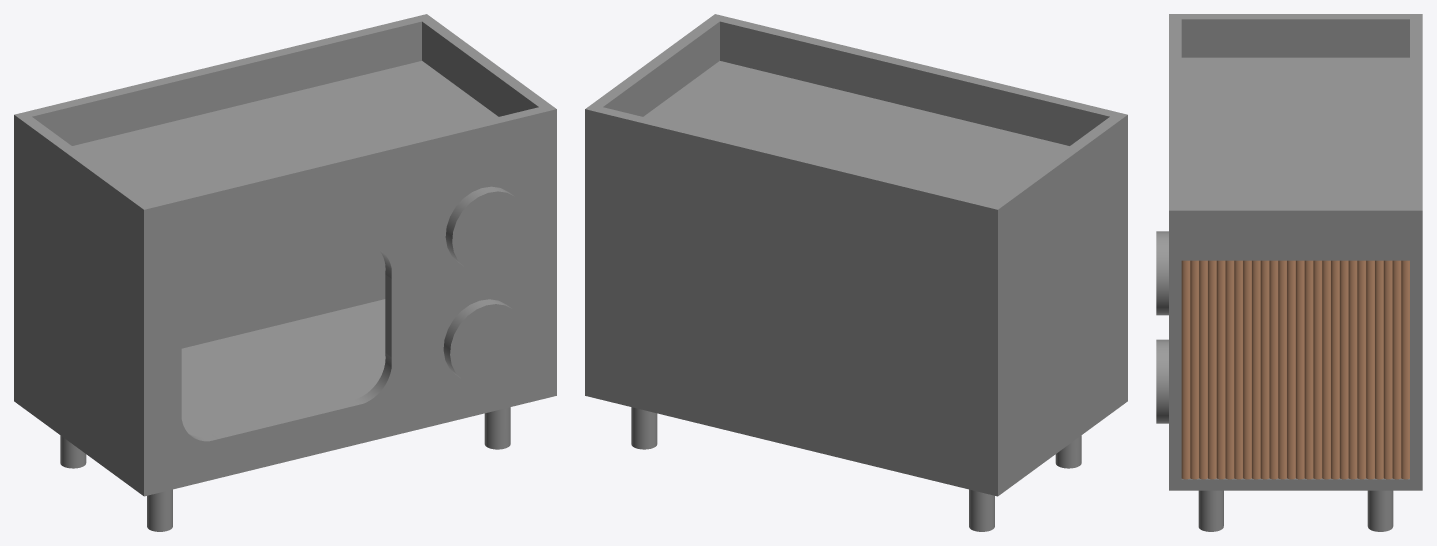
3 renders of one model, left to right at view 1: azimuth 30°, elevation 25°; view 2: azimuth 150°, elevation 25°; view 3: azimuth 270°, elevation 25°, orthographic. The views are drawn at different scales.
Visible parts, largest first — view 1: 205895; view 2: 205895; view 3: 205895, 204190, 204204, 204196, 204195, 204201, 204206, 204200, 204209, 204205, 204210, 204191 (+15 smaller).
Part boxes in pixels (x1,y1,x2,y2): 205895: (14,14,556,531); 205895: (585,14,1127,531); 205895: (1156,14,1422,531); 204190: (1216,260,1225,479); 204204: (1339,260,1348,479); 204196: (1269,260,1278,479); 204195: (1260,260,1269,479); 204201: (1313,260,1322,479); 204206: (1357,260,1366,479); 204200: (1304,260,1313,479); 204209: (1383,260,1392,479); 204205: (1348,260,1357,479); 204210: (1392,260,1401,479); 204191: (1225,260,1234,479).
Size of the model in its own units: 0.55 by 0.435 by 0.315.
